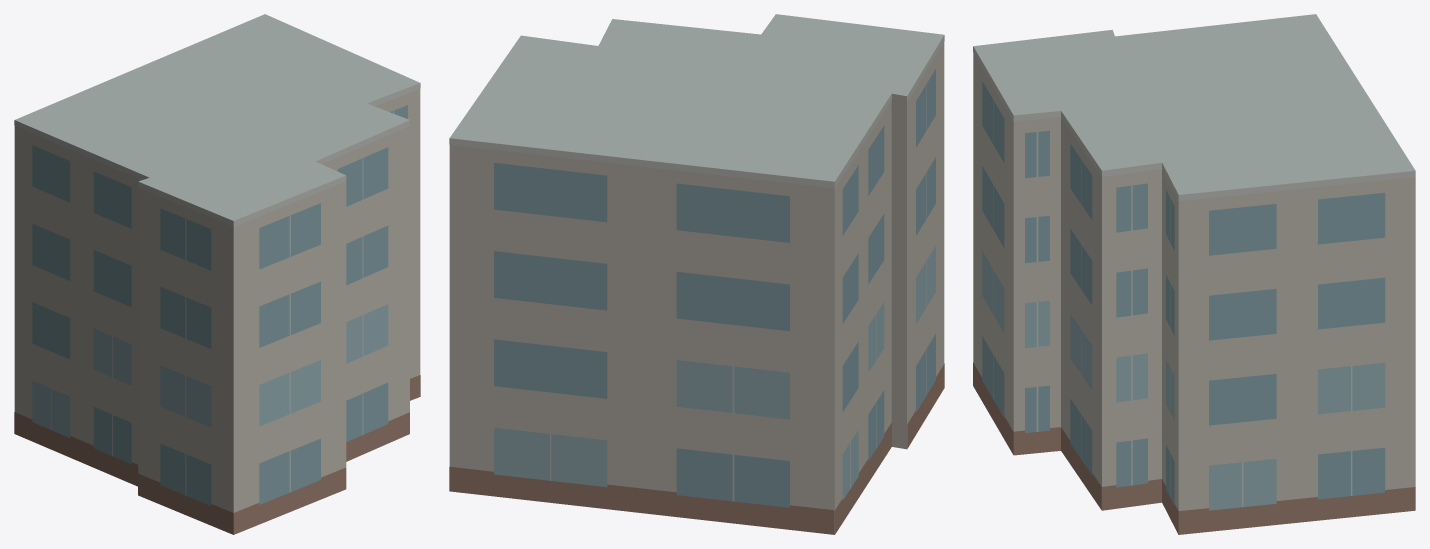
File: survey-upis-32914141.glb
3 renders of one model, left to right at view 1: azimuth 30°, elevation 25°; view 2: azimuth 150°, elevation 25°; view 3: azimuth 270°, elevation 25°, orthographic. The views are drawn at different scales.
Visible parts, largest first — view 1: survey-upis-32914141.tmp; view 2: survey-upis-32914141.tmp; view 3: survey-upis-32914141.tmp.
Part boxes in pixels (left/top/right/bottom): survey-upis-32914141.tmp: left=14, top=14, right=420, bottom=534; survey-upis-32914141.tmp: left=449, top=14, right=944, bottom=534; survey-upis-32914141.tmp: left=973, top=14, right=1415, bottom=534.
Bounding box in the file's own units: 15.21 × 13.31 × 15.71.
